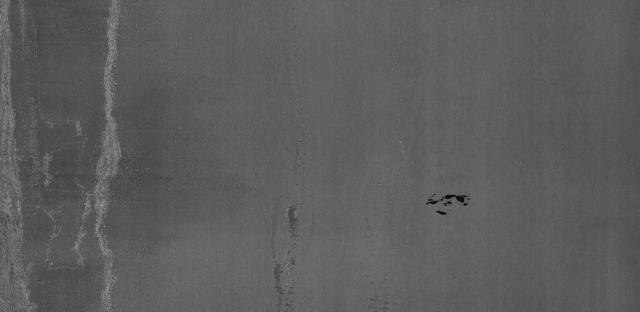inclusion: (417, 187, 479, 227)
silk_spot: (1, 33, 147, 304), (262, 182, 318, 308)
